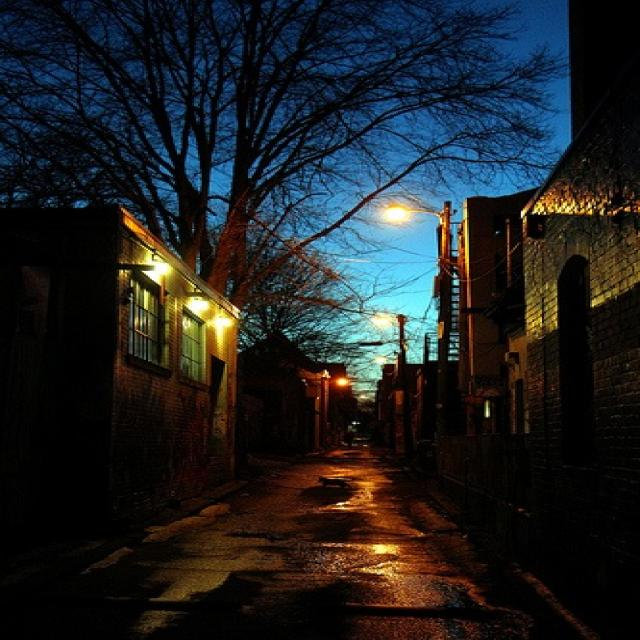Cat: (304, 457, 359, 506)
